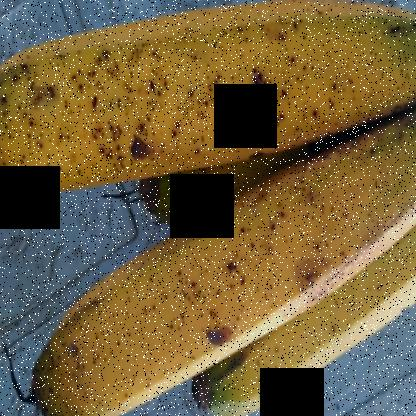ripe: (37, 148, 415, 416), (0, 1, 415, 204)
